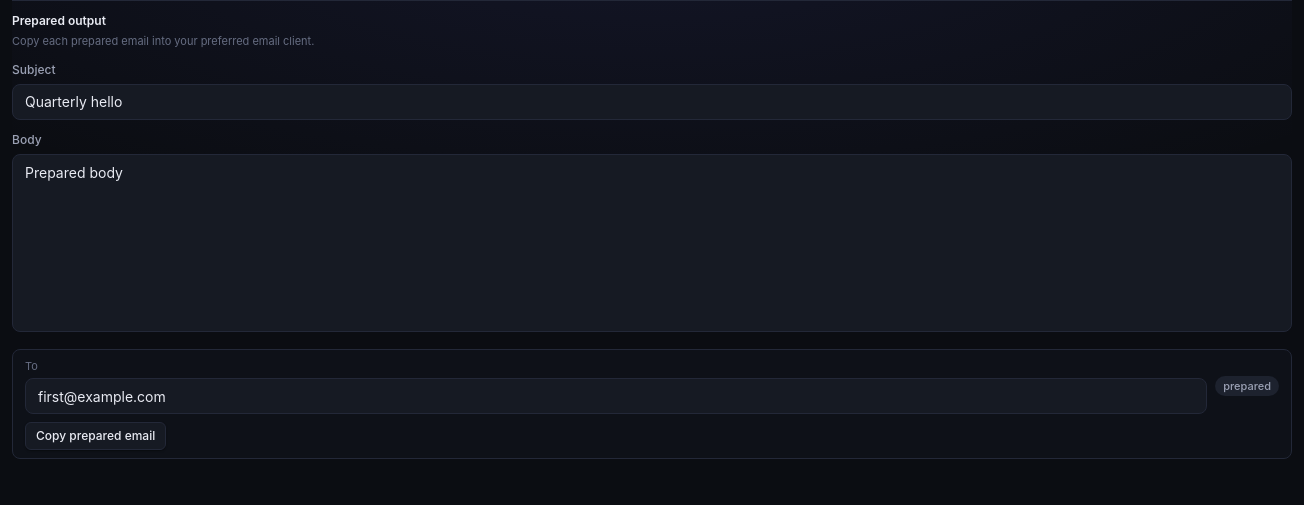
Test case: BulkOutputPanel › keeps manual output visible and prepared when clipboard copying fails
Click the button with aria-label "Copy prepared email for first@example.com" at (96, 436), box [25,422,166,450]
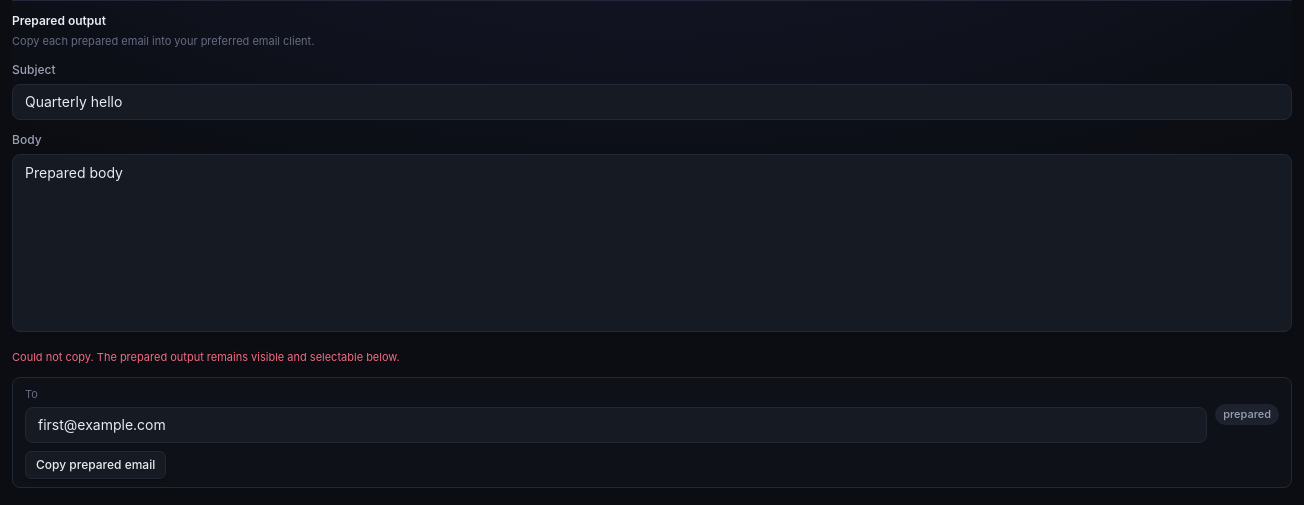
Expected: the field named "Prepared subject" holds "Quarterly hello", [12,84,1292,120]
Now the message shows "remains visible and selectable", box [12,350,400,364]
